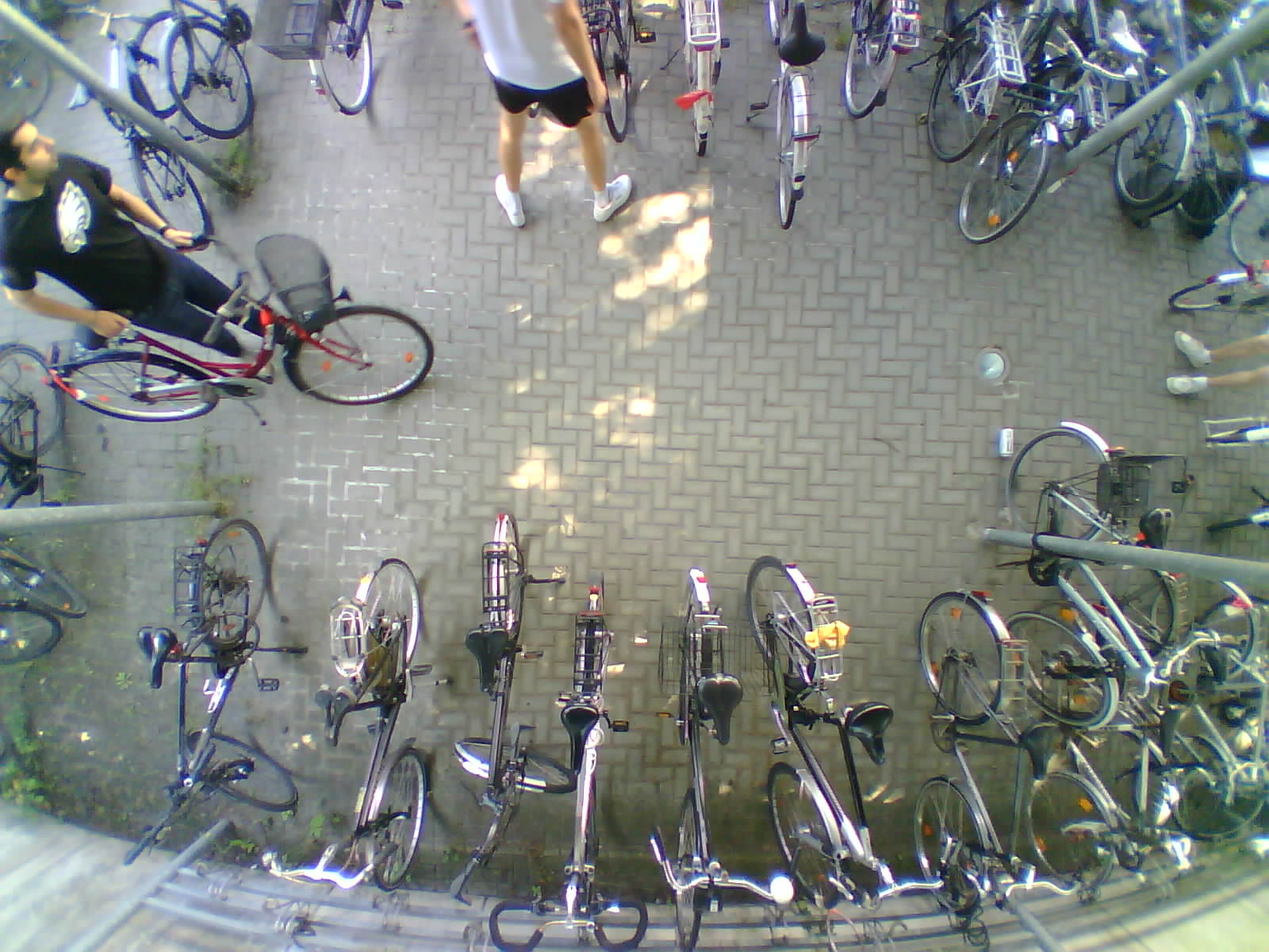bicylce: (52, 260, 434, 426), (999, 409, 1158, 724), (1083, 547, 1256, 832), (755, 550, 887, 923), (143, 513, 274, 833), (1033, 588, 1152, 908), (658, 571, 749, 952), (326, 557, 431, 884), (84, 1, 208, 242), (929, 587, 1015, 914), (470, 513, 543, 886), (555, 572, 622, 947), (977, 0, 1072, 250), (0, 346, 75, 621)
saddle: (698, 670, 746, 748), (775, 0, 828, 67), (844, 703, 897, 768), (72, 302, 134, 354), (315, 678, 359, 746), (1019, 718, 1066, 780), (466, 630, 512, 693), (136, 622, 178, 688), (560, 704, 598, 772), (1106, 11, 1150, 61), (1140, 501, 1179, 556), (1153, 697, 1184, 760), (1204, 638, 1228, 685), (64, 75, 90, 112), (1246, 79, 1269, 119)
